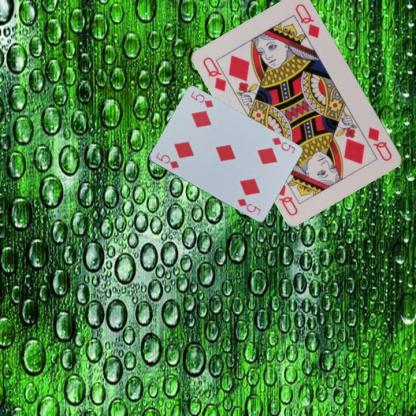5d: (153, 149, 180, 170), (270, 134, 297, 154)
Qd: (201, 54, 235, 93), (365, 124, 394, 163)
